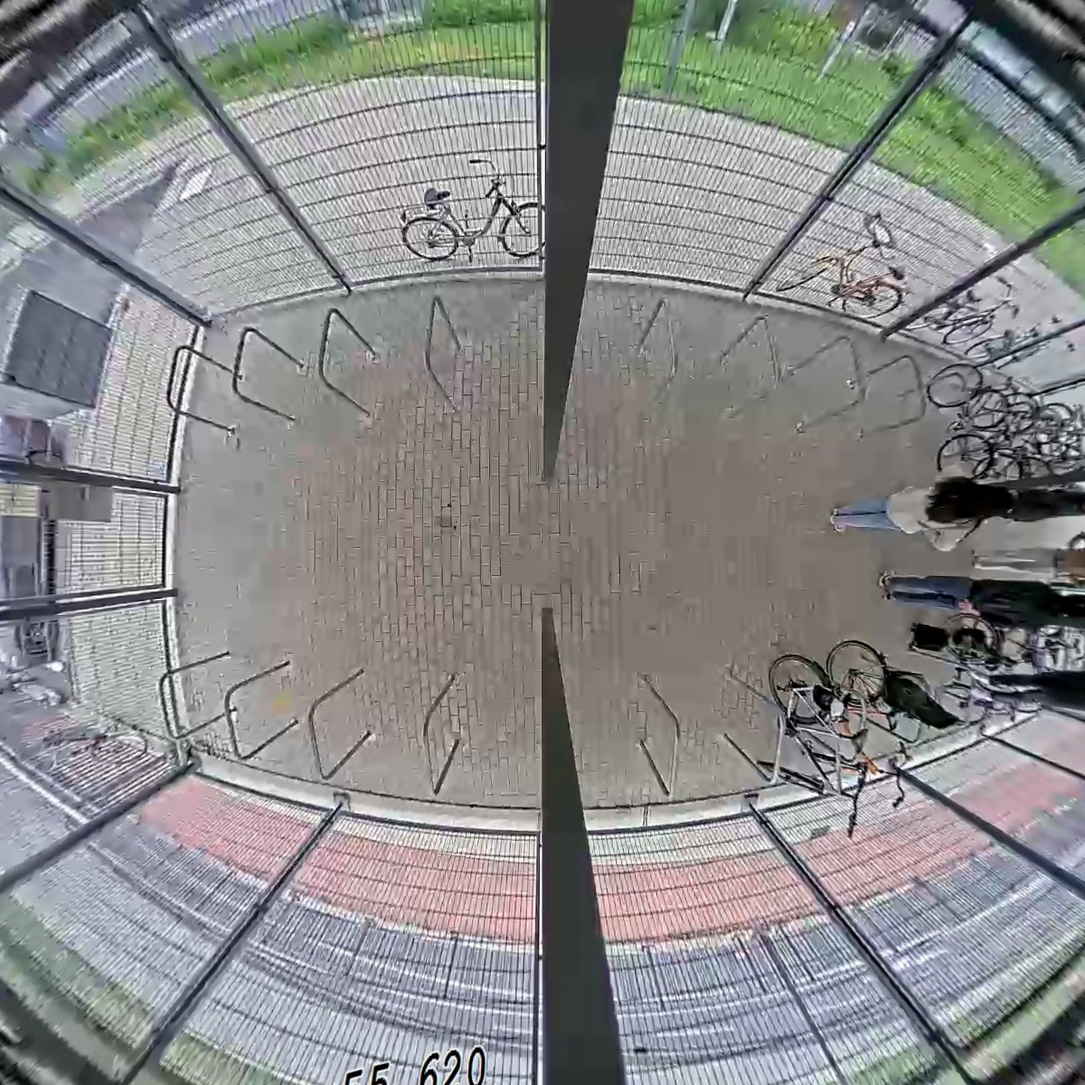bicylce: (764, 644, 874, 833), (809, 635, 907, 802), (922, 359, 1018, 488), (957, 379, 1043, 497), (990, 388, 1072, 491)
saddle: (850, 725, 871, 755), (883, 706, 902, 737), (996, 421, 1017, 444), (1047, 643, 1060, 671), (1070, 637, 1083, 656)
